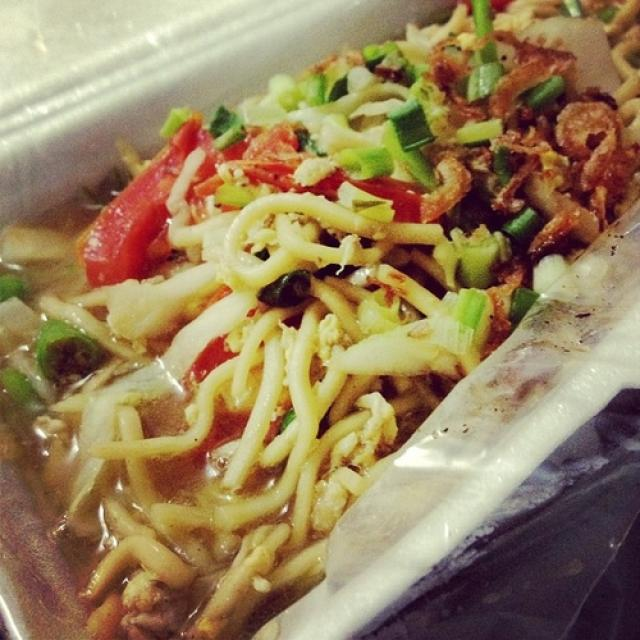面条主食: (23, 21, 608, 599)
